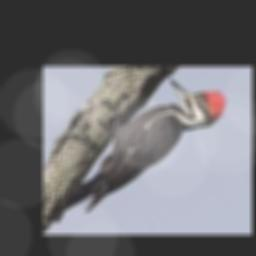Woodpecker: (45, 79, 227, 222)
